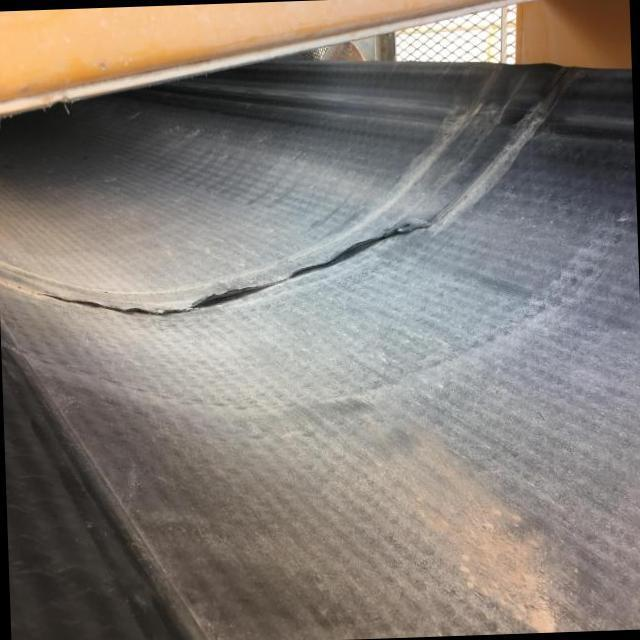Tear: (49, 184, 454, 336)
